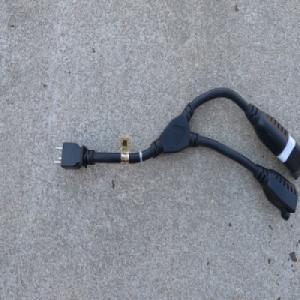Wire: (52, 86, 300, 221)
